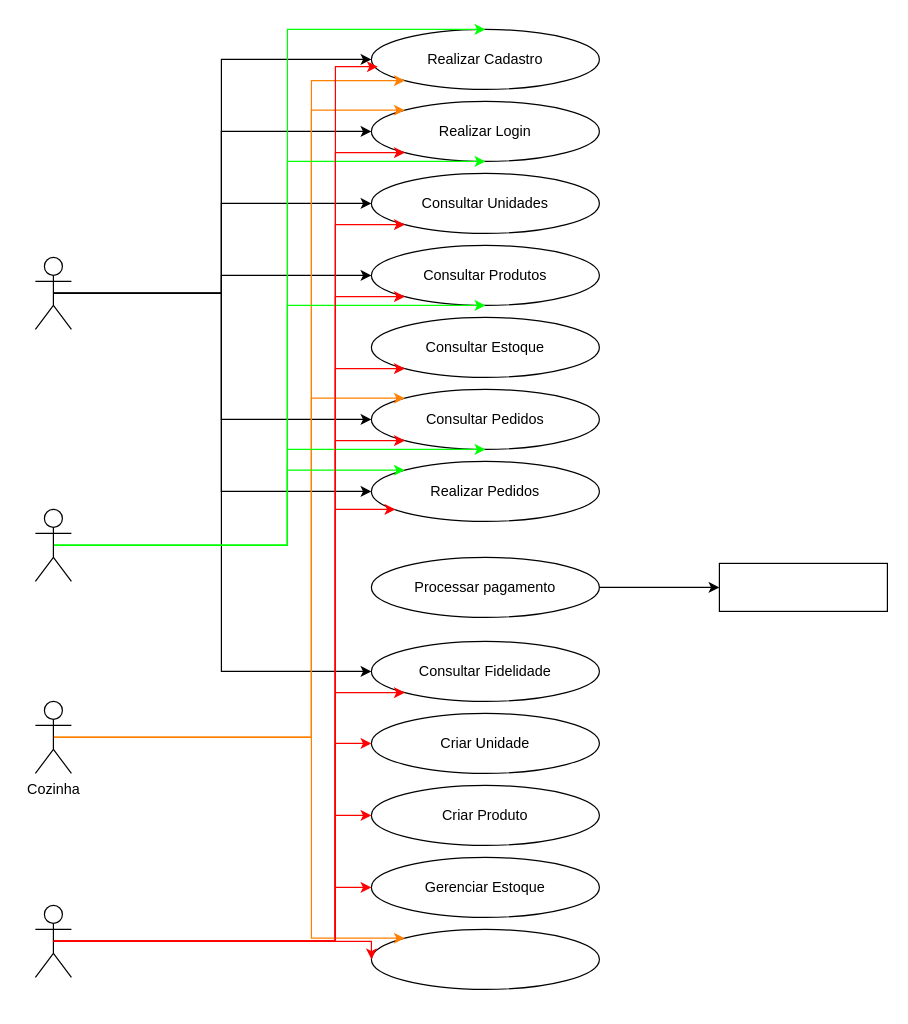
Some shapes in this 908 by 1024 pixel diagram are drawn without their labels. The centre of each missing label's shape, as x and y in pixels:
Admin: the point at 52,940
Alterar Status do Pedido: the point at 484,958
Atendente: the point at 52,544
Cliente: the point at 52,292
Gateway de pagamento Mock: the point at 802,586
